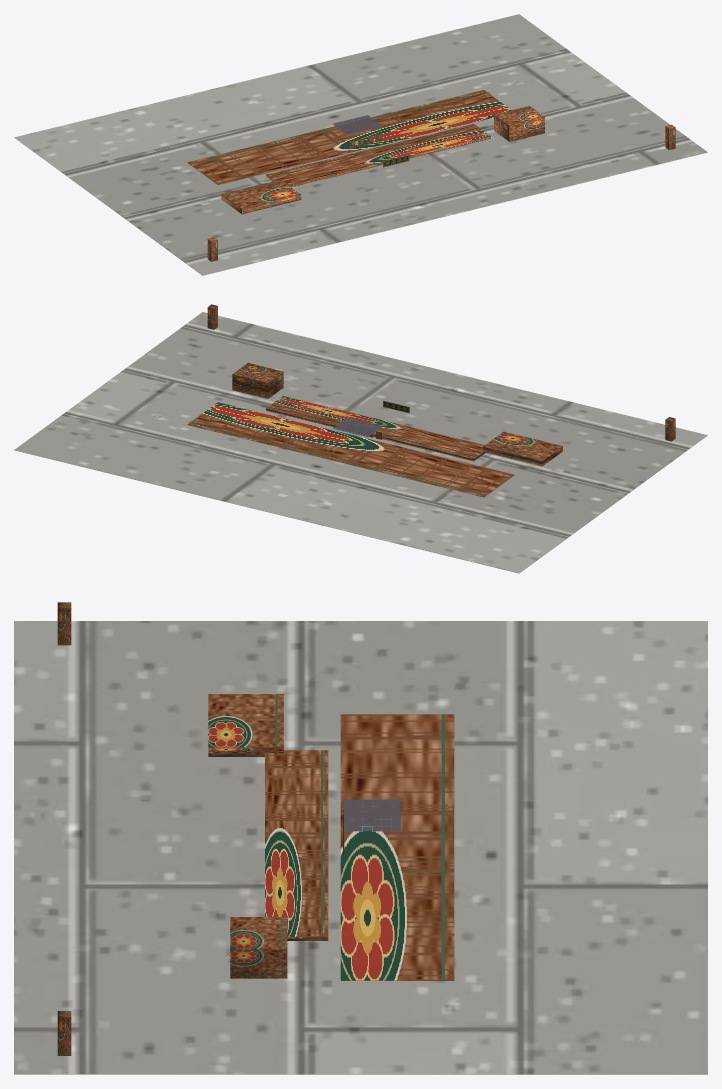
The picture shows the model from 3 angles, top to bottom: view 1: azimuth 30°, elevation 25°; view 2: azimuth 150°, elevation 25°; view 3: azimuth 270°, elevation 25°; orthographic projection. The views are drawn at different scales.
Visible parts, largest first — view 1: 11710_01_05547_046_01_L2__base, 11710_01_05547_046_02_L2__body, 11710_01_05547_046_03_L2__roof, 11710_01_05547_046_06_L2__green; view 2: 11710_01_05547_046_01_L2__base, 11710_01_05547_046_02_L2__body, 11710_01_05547_046_03_L2__roof, 11710_01_05547_046_06_L2__green; view 3: 11710_01_05547_046_01_L2__base, 11710_01_05547_046_02_L2__body, 11710_01_05547_046_03_L2__roof, 11710_01_05547_046_06_L2__green.
Part boxes in pixels (x1=…): 11710_01_05547_046_01_L2__base: x1=14, y1=14, x2=707, y2=275; 11710_01_05547_046_02_L2__body: x1=187, y1=90, x2=544, y2=214; 11710_01_05547_046_03_L2__roof: x1=333, y1=115, x2=382, y2=134; 11710_01_05547_046_06_L2__green: x1=207, y1=124, x2=675, y2=261; 11710_01_05547_046_01_L2__base: x1=14, y1=312, x2=707, y2=573; 11710_01_05547_046_02_L2__body: x1=187, y1=363, x2=562, y2=497; 11710_01_05547_046_03_L2__roof: x1=333, y1=417, x2=382, y2=437; 11710_01_05547_046_06_L2__green: x1=207, y1=304, x2=675, y2=441; 11710_01_05547_046_01_L2__base: x1=14, y1=621, x2=707, y2=1074; 11710_01_05547_046_02_L2__body: x1=208, y1=694, x2=454, y2=980; 11710_01_05547_046_03_L2__roof: x1=344, y1=799, x2=400, y2=831; 11710_01_05547_046_06_L2__green: x1=57, y1=602, x2=71, y2=1055.
Bounding box in the file's own units: 170 × 6.9 × 110.
Materials: 5 (5 with a texture image).
